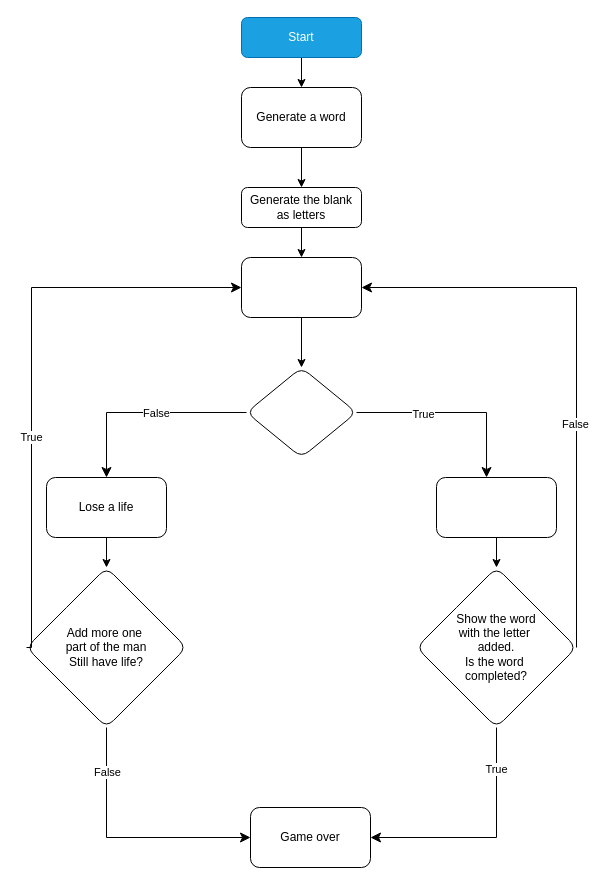
Image size: 606x885. Some labels were removed from this diagram. The centre of each missing label's shape, as x and y in pixels:
is Letter in the word?: point (301, 412)
Read a letter: point (301, 287)
Replace the blank: point (496, 507)
